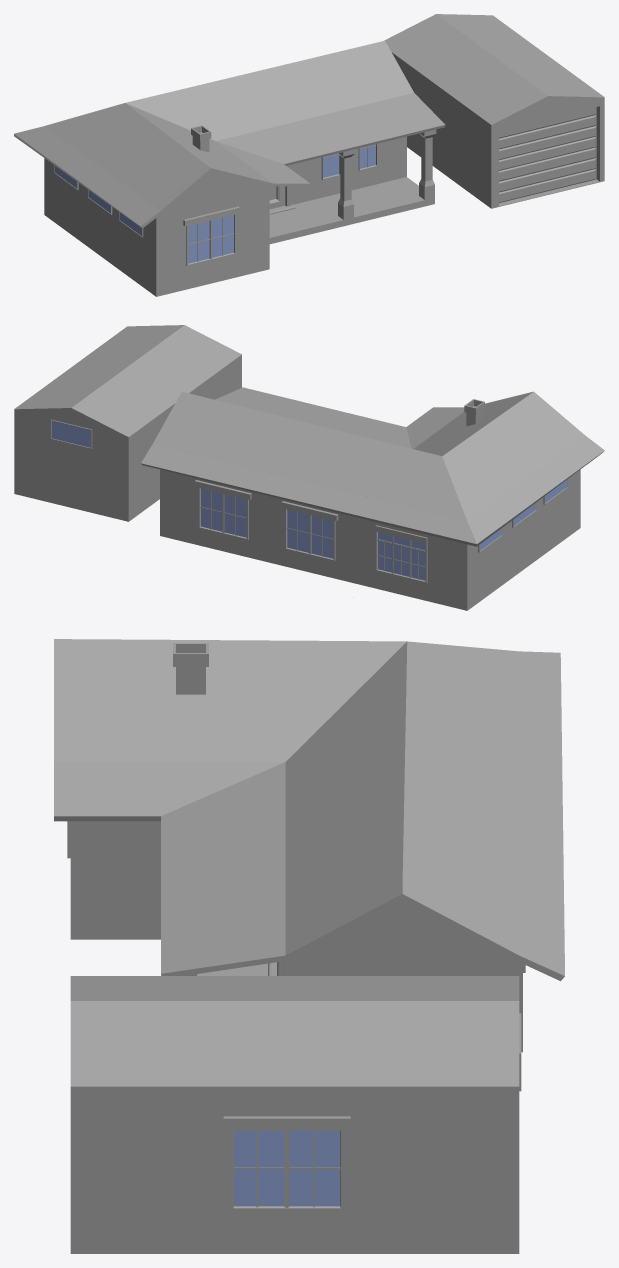
File: N_House_2.fbx
3 renders of one model, top to bottom at view 1: azimuth 30°, elevation 25°; view 2: azimuth 150°, elevation 25°; view 3: azimuth 270°, elevation 25°, orthographic. The views are drawn at different scales.
Parts seen in each view (by area): view 1: N_House_2; view 2: N_House_2; view 3: N_House_2.
Part boxes in pixels (left/top/right/bottom): N_House_2: left=14, top=14, right=604, bottom=296; N_House_2: left=14, top=325, right=604, bottom=610; N_House_2: left=54, top=639, right=564, bottom=1253.
Bounding box in the file's own units: 1466 × 428 × 689.
